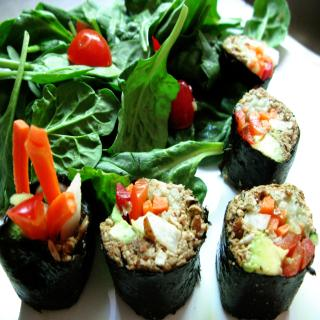tomato: (62, 26, 108, 67), (168, 80, 194, 134)
